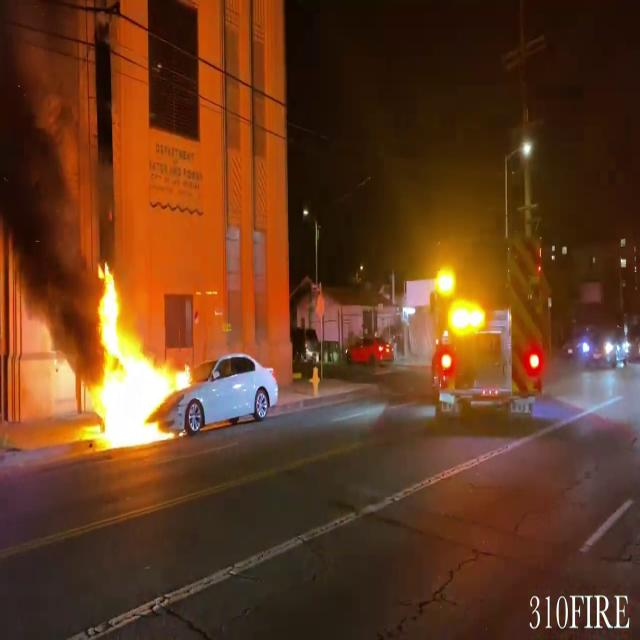Fire: (86, 255, 192, 450)
Smoke: (0, 1, 104, 354)
